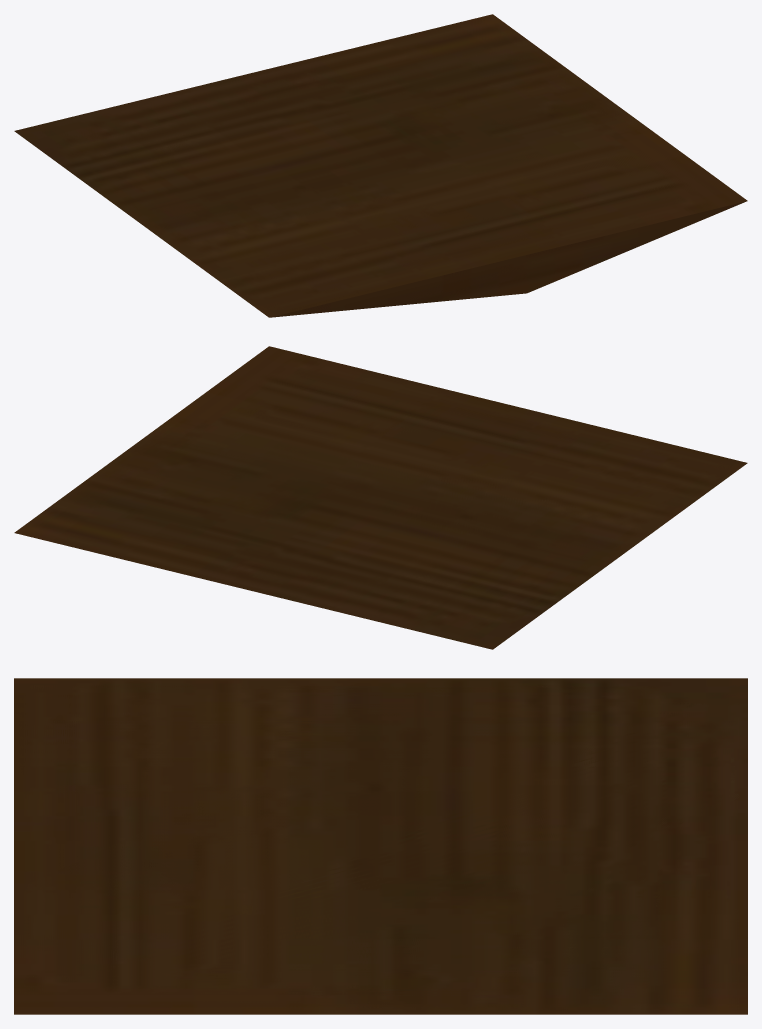
The model's file is link_8__top_panel-26.glb.
3 renders of one model, top to bottom at view 1: azimuth 30°, elevation 25°; view 2: azimuth 150°, elevation 25°; view 3: azimuth 270°, elevation 25°, orthographic. The views are drawn at different scales.
Parts seen in each view (by area): view 1: geometry_0; view 2: geometry_0; view 3: geometry_0.
Boxes of the visible parts, x1,y1,x2,y2 form: geometry_0: (14, 14, 747, 317); geometry_0: (14, 346, 747, 649); geometry_0: (14, 678, 747, 1014).
Bounding box in the file's own units: 0.1365 × 0.0105 × 0.126.
Materials: 1 (1 with a texture image).
